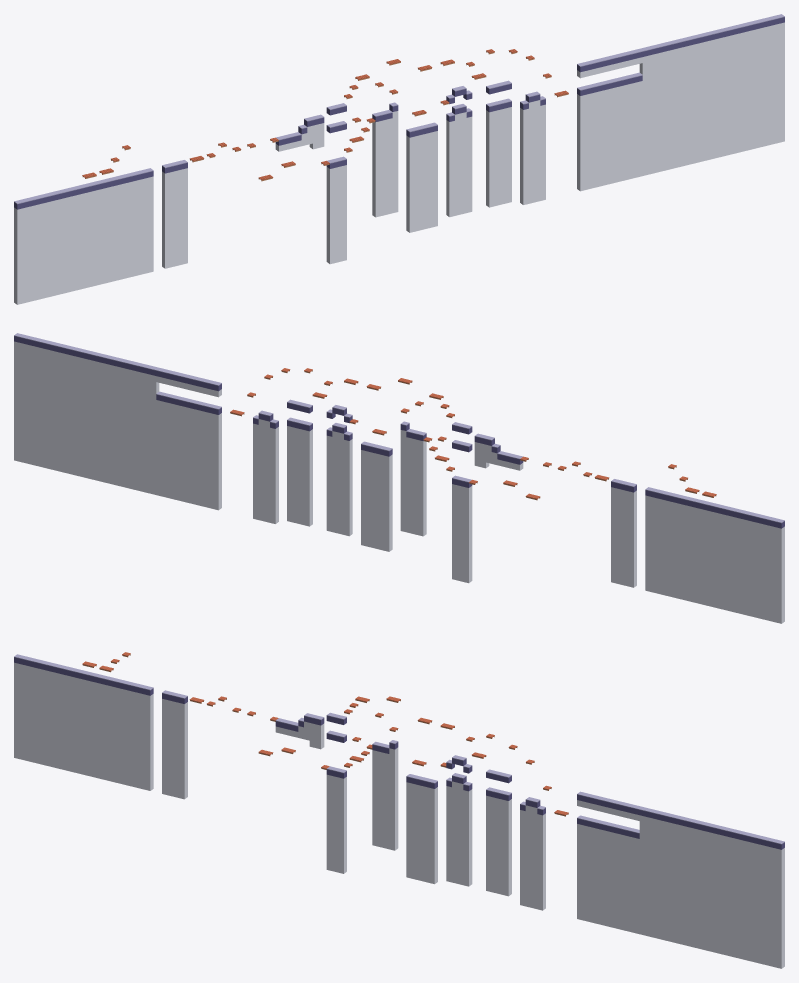
Rendered from platforms.glb.
3 views of the same model, one above another, from view 1: azimuth 30°, elevation 25°; view 2: azimuth 150°, elevation 25°; view 3: azimuth 330°, elevation 25° (orthographic).
Visible parts, largest first — view 1: block (×12), floor (×4); view 2: block (×12), floor (×4); view 3: block (×12), floor (×4).
Part boxes in pixels (bbox=[...]): block (×12): bbox=[14, 22, 784, 304]; floor (×4): bbox=[14, 14, 784, 209]; block (×12): bbox=[14, 341, 784, 623]; floor (×4): bbox=[14, 333, 784, 528]; block (×12): bbox=[14, 663, 784, 968]; floor (×4): bbox=[14, 654, 784, 849].
Bounding box in the file's own units: 135 × 31.2 × 1.
